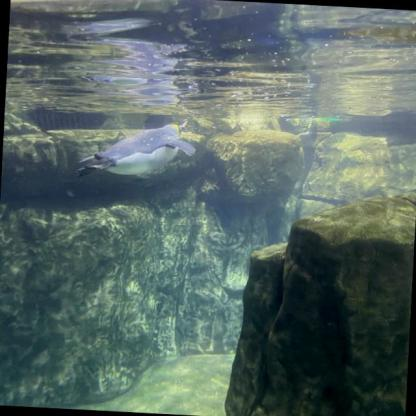penguin: (78, 113, 206, 185)
